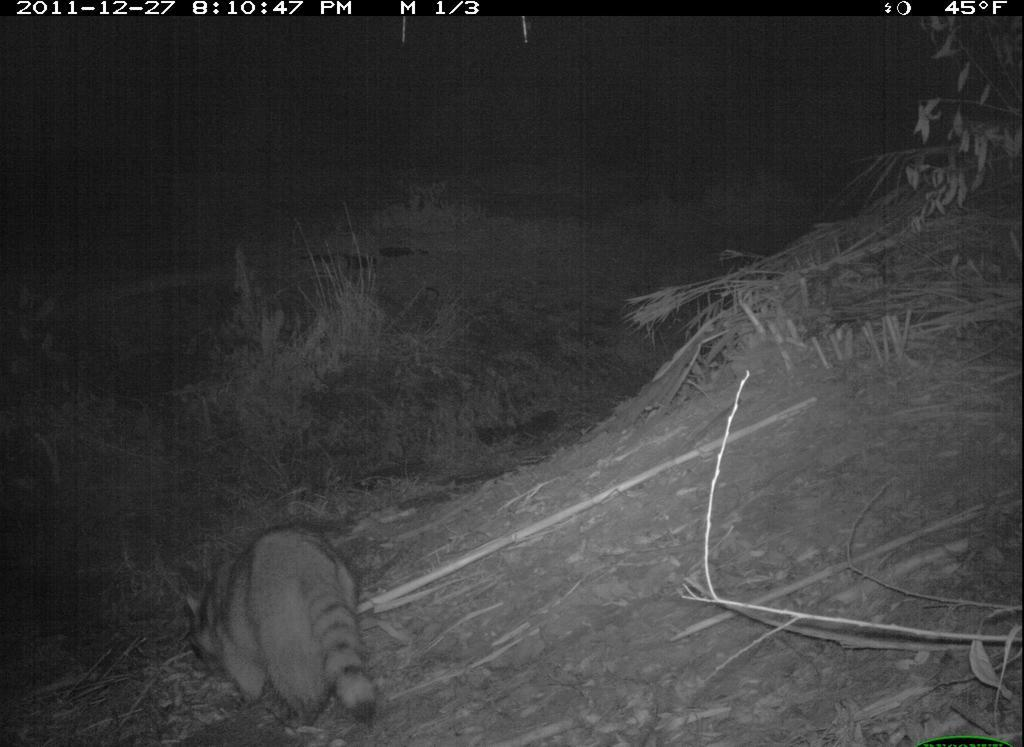raccoon: (172, 524, 418, 729)
